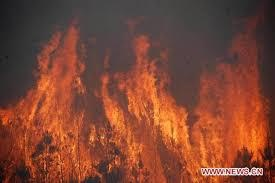fire: (5, 21, 259, 178)
